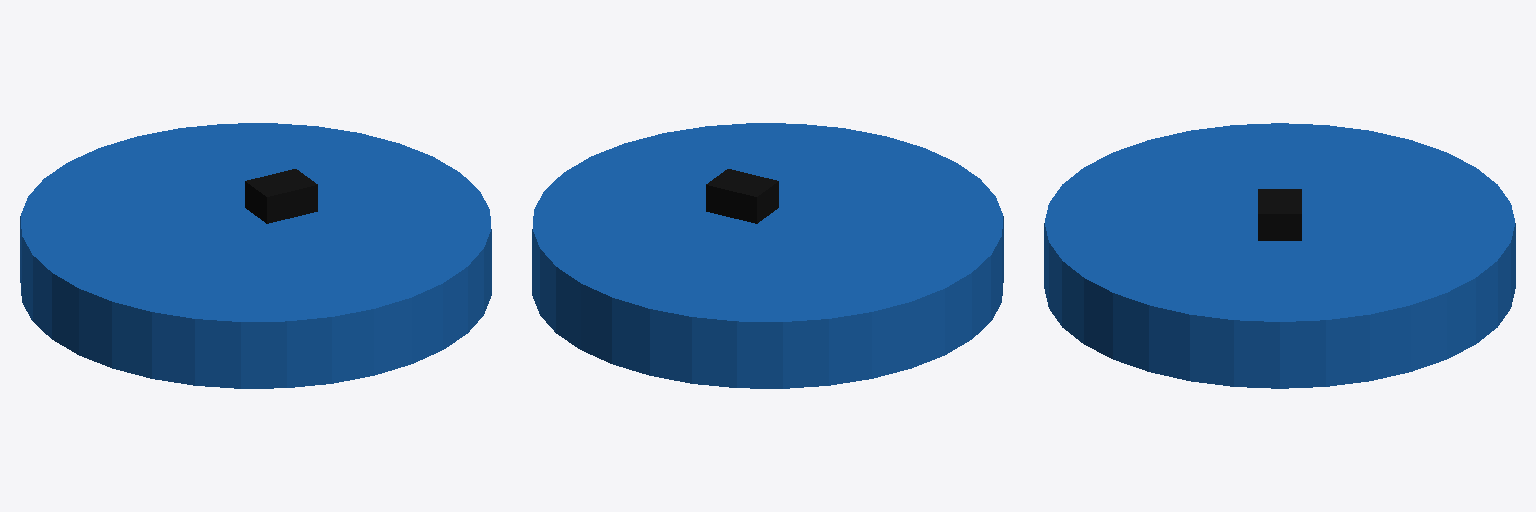
URDF robot description (tortobot):
<?xml version="1.0"?>
<!-- TortoBot, the planar robot of PHANTOM (github.com/H-tr/PHANTOM-Planner,
     phantom/robot/tortobot.urdf): a disc base of radius 0.32 m whose x, y and
     heading move on their own, and a camera that pans on its own joint.
     PHANTOM's planar joint is written here as the package's three virtual
     base joints. The x and y ranges are placeholders: callers set the
     workspace with set_joint_limits. -->
<robot name="tortobot">
  <link name="world"/>
  <joint name="base_x_joint" type="prismatic">
    <parent link="world"/>
    <child link="base_x_link"/>
    <origin xyz="0 0 0" rpy="0 0 0"/>
    <axis xyz="1 0 0"/>
    <limit lower="-10.0" upper="10.0" effort="100" velocity="1.0"/>
  </joint>
  <link name="base_x_link"/>
  <joint name="base_y_joint" type="prismatic">
    <parent link="base_x_link"/>
    <child link="base_y_link"/>
    <origin xyz="0 0 0" rpy="0 0 0"/>
    <axis xyz="0 1 0"/>
    <limit lower="-10.0" upper="10.0" effort="100" velocity="1.0"/>
  </joint>
  <link name="base_y_link"/>
  <joint name="base_theta_joint" type="revolute">
    <parent link="base_y_link"/>
    <child link="base_link"/>
    <origin xyz="0 0 0" rpy="0 0 0"/>
    <axis xyz="0 0 1"/>
    <limit lower="-3.141592653589793" upper="3.141592653589793" effort="100" velocity="1.0"/>
  </joint>
  <link name="base_link">
    <!-- One sphere of the disc's radius at the disc's centre. On a planar map,
         given as an ESDF that does not change with height, the sphere is free
         exactly where PHANTOM's disc is free. No foam step: the model is
         already one sphere. -->
    <collision>
      <origin xyz="0 0 0" rpy="0 0 0"/>
      <geometry>
        <sphere radius="0.32"/>
      </geometry>
    </collision>
    <visual>
      <geometry>
        <cylinder radius="0.32" length="0.10"/>
      </geometry>
      <material name="body_blue">
        <color rgba="0.15 0.45 0.75 1"/>
      </material>
    </visual>
  </link>
  <!-- The camera pans on its own joint; it lies inside the base's footprint
       and has no collision geometry. -->
  <joint name="camera_pan" type="revolute">
    <parent link="base_link"/>
    <child link="camera_link"/>
    <origin xyz="0 0 0.08" rpy="0 0 0"/>
    <axis xyz="0 0 1"/>
    <limit lower="-3.141592653589793" upper="3.141592653589793" effort="1" velocity="3.0"/>
  </joint>
  <link name="camera_link">
    <visual>
      <origin xyz="0.04 0 0" rpy="0 0 0"/>
      <geometry>
        <box size="0.08 0.06 0.04"/>
      </geometry>
      <material name="camera_black">
        <color rgba="0.1 0.1 0.1 1"/>
      </material>
    </visual>
  </link>
</robot>

--- What the picture shows (computed from the rendered views, not written in the file) ---
The picture shows the robot from 3 angles, left to right: view 1: azimuth 30°, elevation 25°; view 2: azimuth 150°, elevation 25°; view 3: azimuth 270°, elevation 25°; orthographic projection.
Model tortobot with 5 links and 4 joints (2 revolute, 2 prismatic), rooted at world, posed all joints at 0.
Links seen in each view (by area): view 1: base_link, camera_link; view 2: base_link, camera_link; view 3: base_link, camera_link.
Link boxes in pixels (box(x1,y1,x2,y2)): base_link: box(20, 123, 491, 388); camera_link: box(245, 169, 317, 223); base_link: box(532, 123, 1003, 388); camera_link: box(706, 169, 778, 223); base_link: box(1044, 123, 1515, 388); camera_link: box(1258, 189, 1301, 240).
Bounding box of the posed robot: 0.64 × 0.64 × 0.15 m (x, y, z).
Geometry: primitives only (box / cylinder / sphere), no mesh files.
